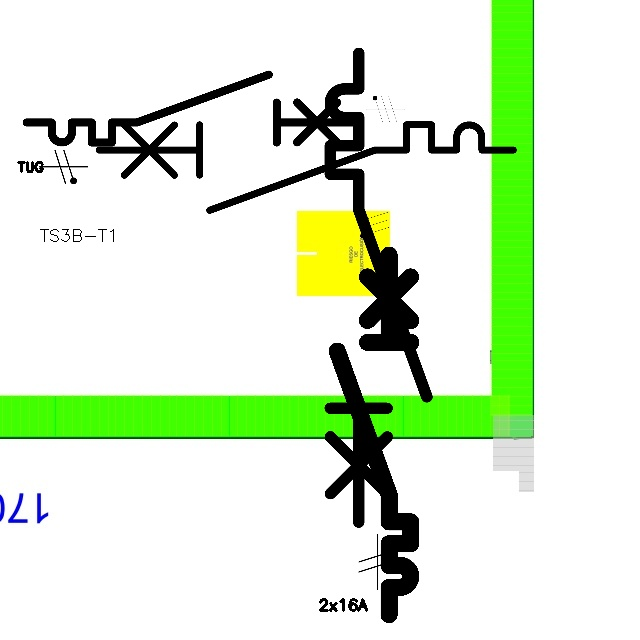interruptor_termomagnetico: (318, 41, 438, 534), (88, 114, 524, 220), (328, 245, 420, 623), (18, 66, 366, 151)
